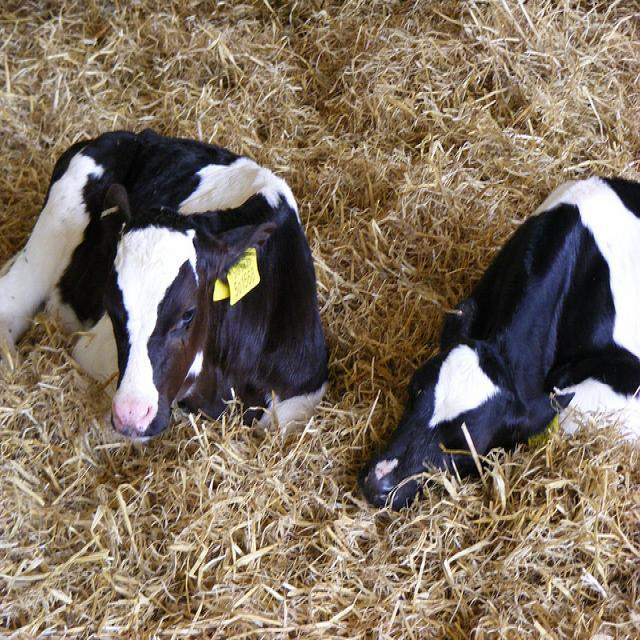cow: (0, 119, 332, 443), (358, 168, 639, 508)
